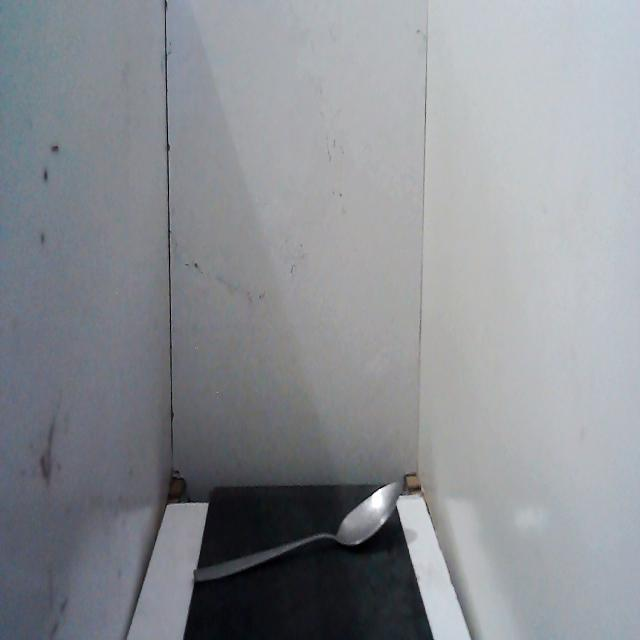metal: (191, 472, 405, 592)
